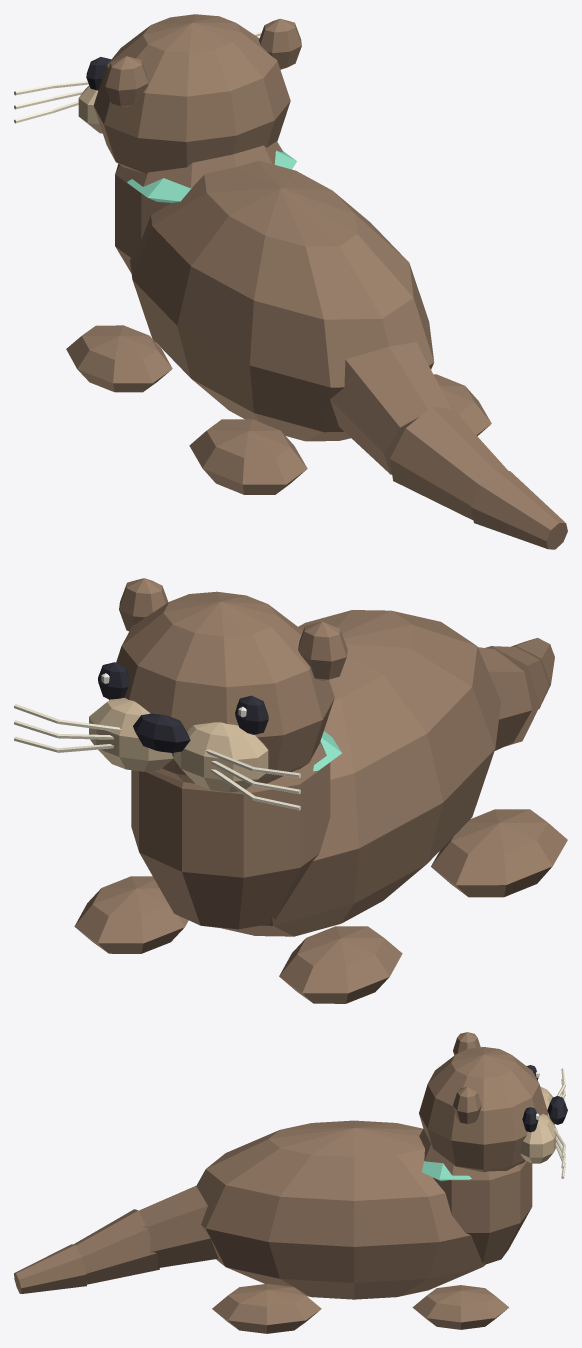
File: otterhound.glb
3 views of the same model, one above another, from view 1: azimuth 30°, elevation 25°; view 2: azimuth 150°, elevation 25°; view 3: azimuth 270°, elevation 25° (orthographic). The views are drawn at different scales.
Visible parts, largest first — view 1: BodyMesh, HeadMesh; view 2: BodyMesh, HeadMesh; view 3: BodyMesh, HeadMesh.
Boxes of the visible parts, x1,y1,x2,y2 form: BodyMesh: (66, 141, 567, 549); HeadMesh: (14, 14, 301, 173); BodyMesh: (74, 610, 567, 1003); HeadMesh: (14, 578, 347, 810); BodyMesh: (14, 1120, 532, 1333); HeadMesh: (419, 1032, 567, 1178).
Size of the model in its own units: 0.72 by 0.82 by 1.71.
